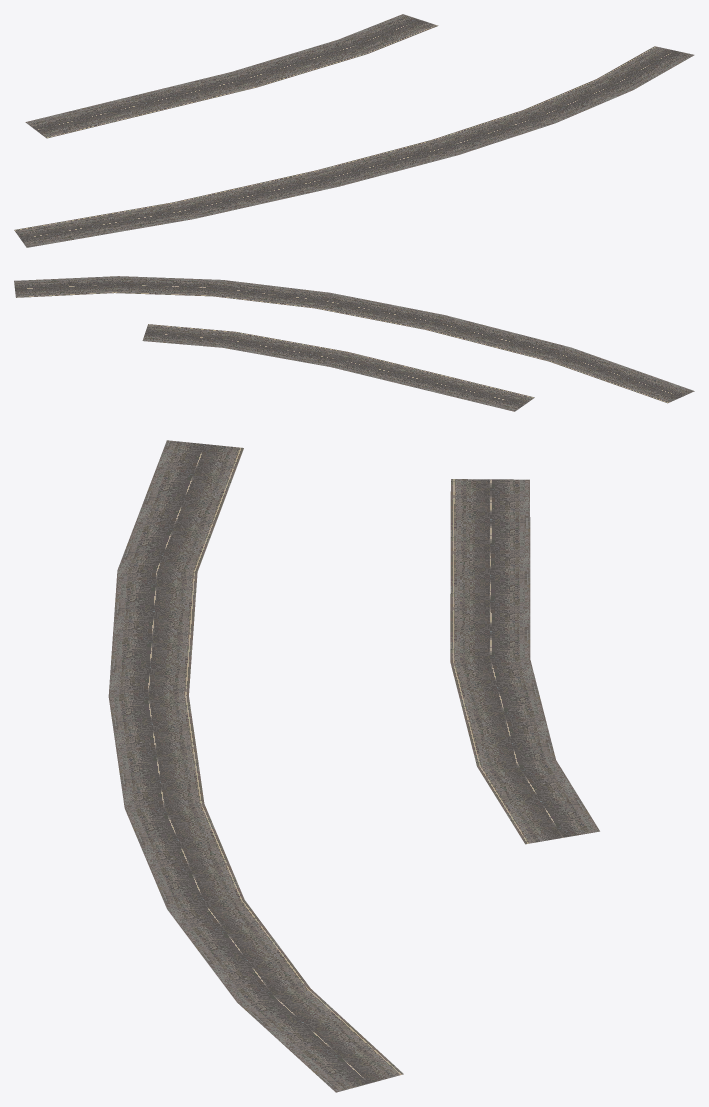
Rendered from cs_lodroads06.obj.
3 renders of one model, top to bottom at view 1: azimuth 30°, elevation 25°; view 2: azimuth 150°, elevation 25°; view 3: azimuth 270°, elevation 25°, orthographic. The views are drawn at different scales.
Visible parts, largest first — view 1: cs_lodroads06; view 2: cs_lodroads06; view 3: cs_lodroads06.
Boxes of the visible parts, bbox=[...] form: cs_lodroads06: bbox=[14, 14, 694, 247]; cs_lodroads06: bbox=[14, 276, 694, 411]; cs_lodroads06: bbox=[108, 440, 599, 1092].
Size of the model in its own units: 223 by 12.87 by 74.5.
1 material, 1 textured.
